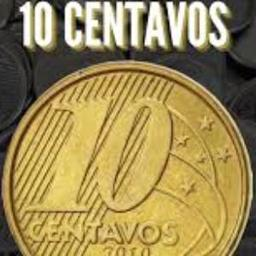5 cent: (0, 58, 254, 255)
